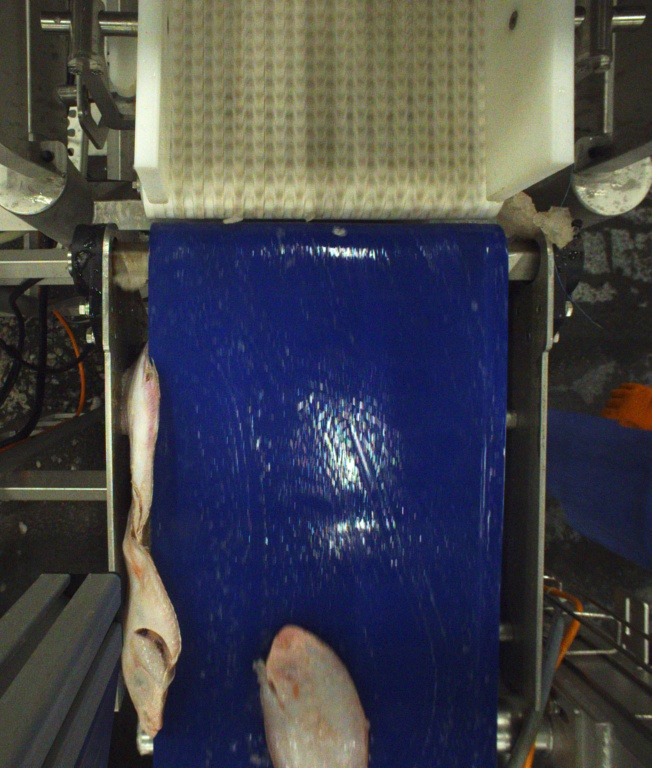SOL: (251, 625, 375, 768)
